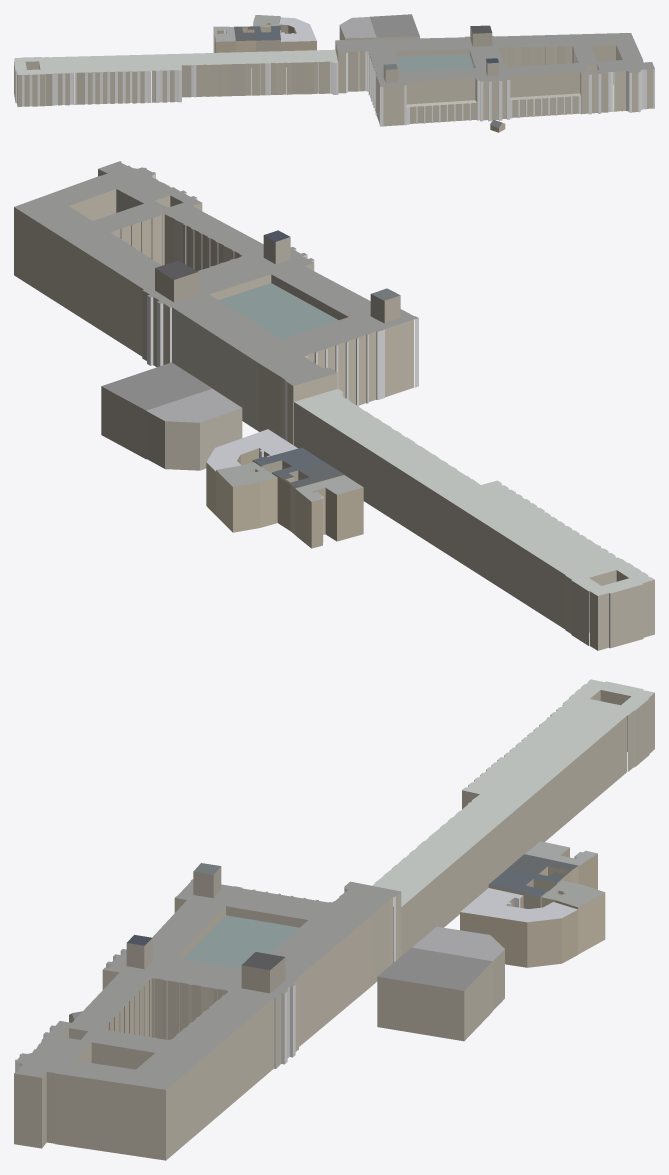
3 views of the same model, one above another, from view 1: azimuth 30°, elevation 25°; view 2: azimuth 150°, elevation 25°; view 3: azimuth 270°, elevation 25° (orthographic). The views are drawn at different scales.
Visible parts, largest first — view 1: tuile; view 2: tuile; view 3: tuile.
Boxes of the visible parts, x1,y1,x2,y2 form: tuile: (14,14,654,132); tuile: (14,161,654,650); tuile: (14,679,654,1160).
Size of the model in its own units: 429 by 46.54 by 272.
